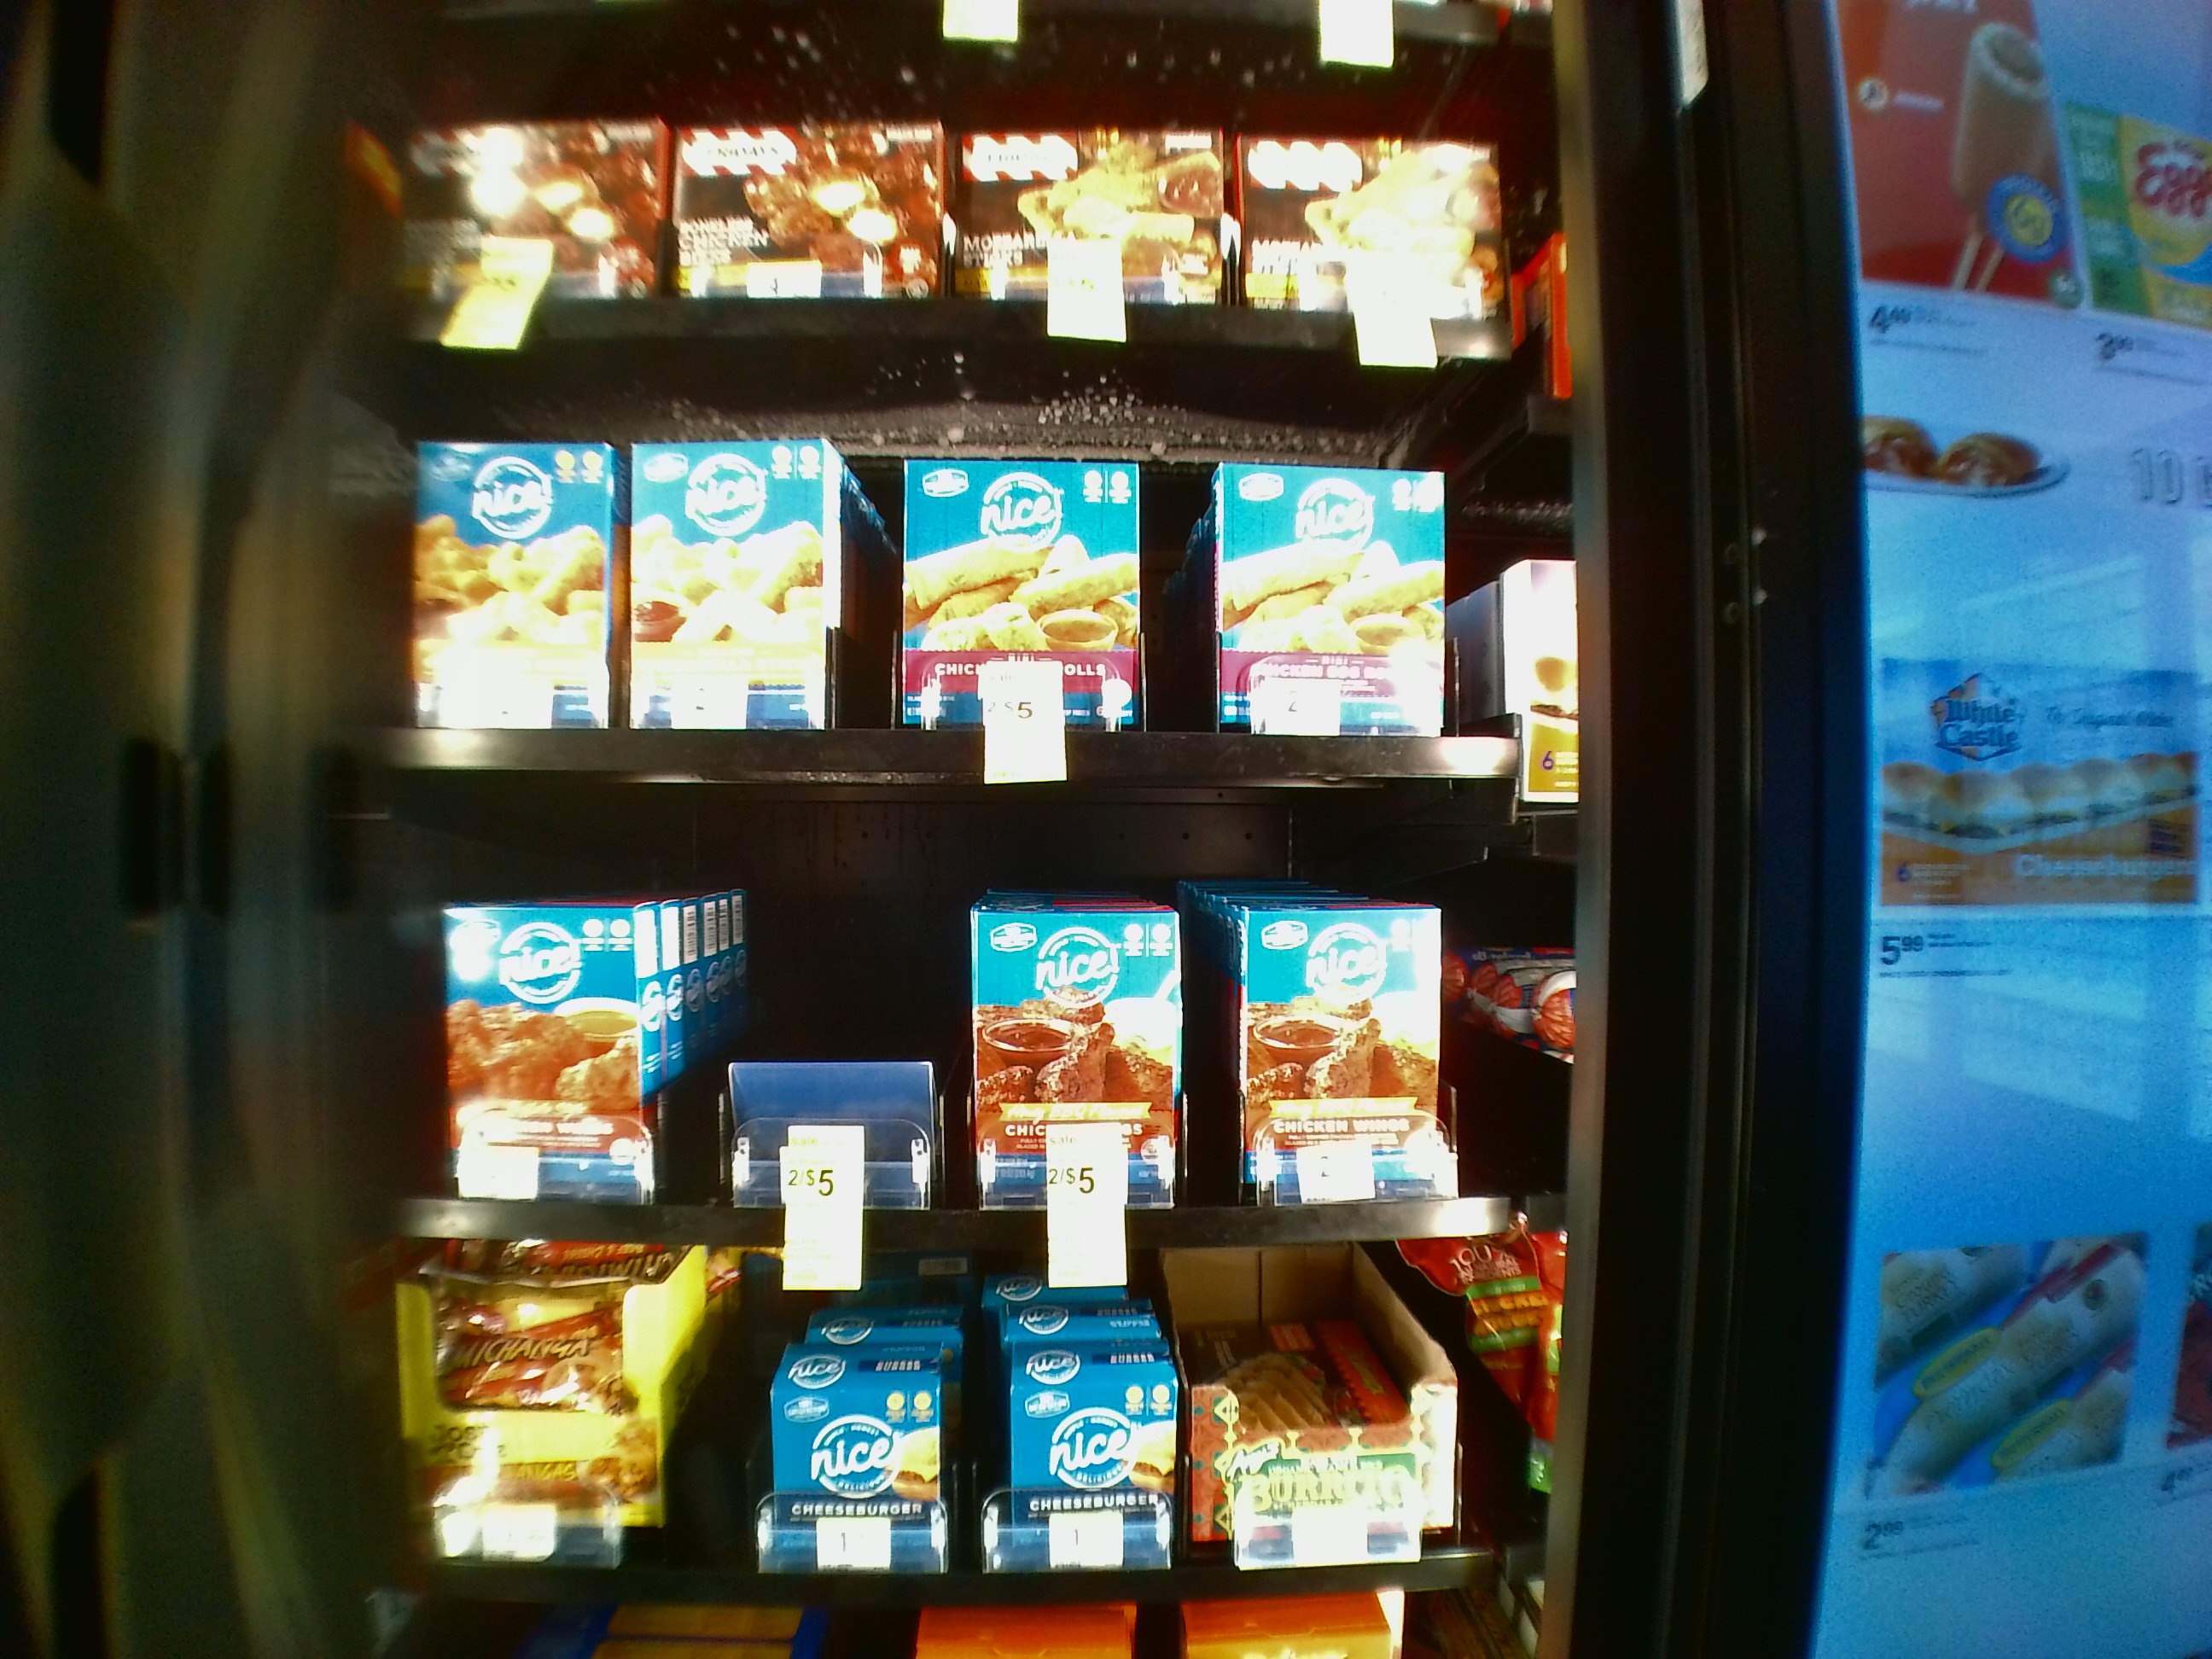shelf: (347, 807, 1566, 1256), (347, 350, 1575, 791)
